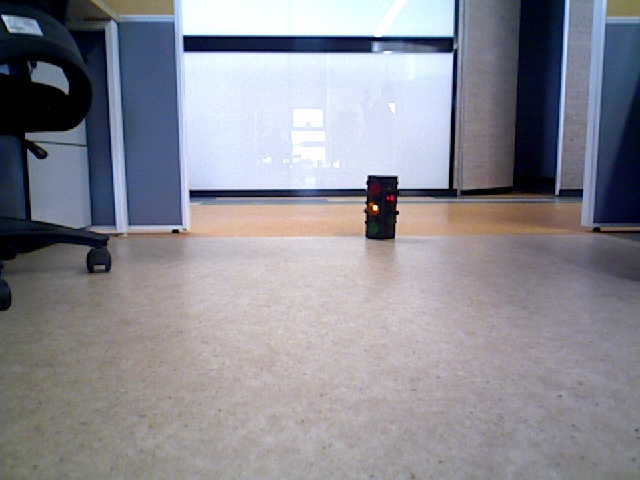yellow: (366, 176, 392, 237)
